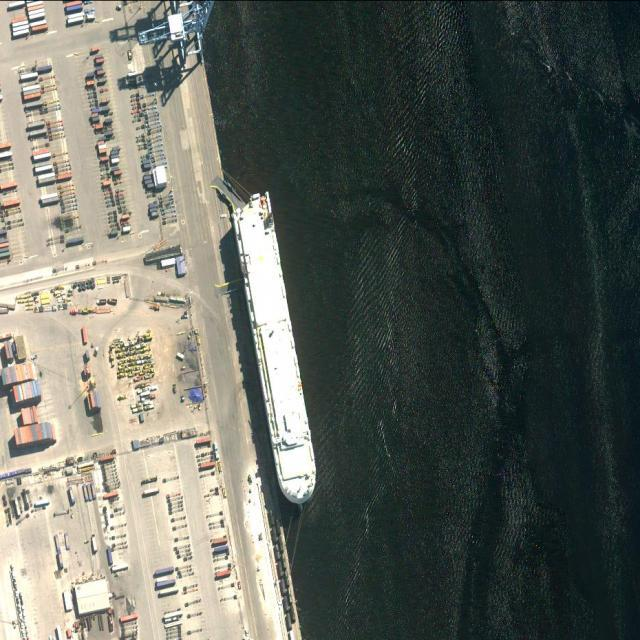RoRo: (224, 189, 332, 508)
